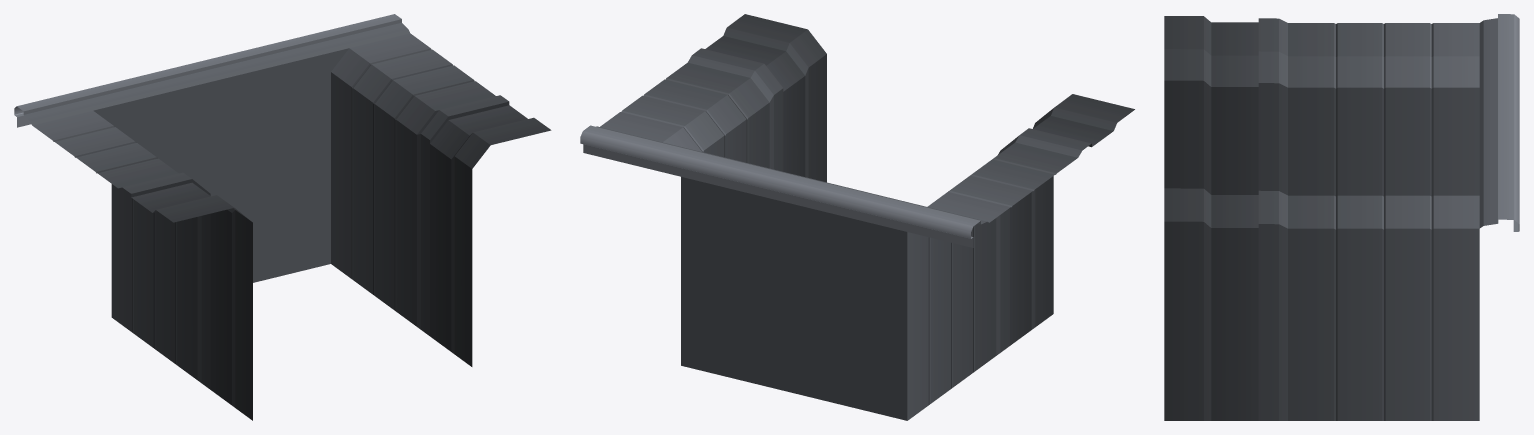
The model's file is Entrance 02.FBX.
The picture shows the model from 3 angles, left to right: view 1: azimuth 30°, elevation 25°; view 2: azimuth 150°, elevation 25°; view 3: azimuth 270°, elevation 25°; orthographic projection. The views are drawn at different scales.
Visible parts, largest first — view 1: Entrance 02; view 2: Entrance 02; view 3: Entrance 02.
Boxes of the visible parts, x1,y1,x2,y2 form: Entrance 02: (14,14,551,420); Entrance 02: (580,14,1134,420); Entrance 02: (1164,14,1519,420).
Bounding box in the file's own units: 400 × 222 × 292.
